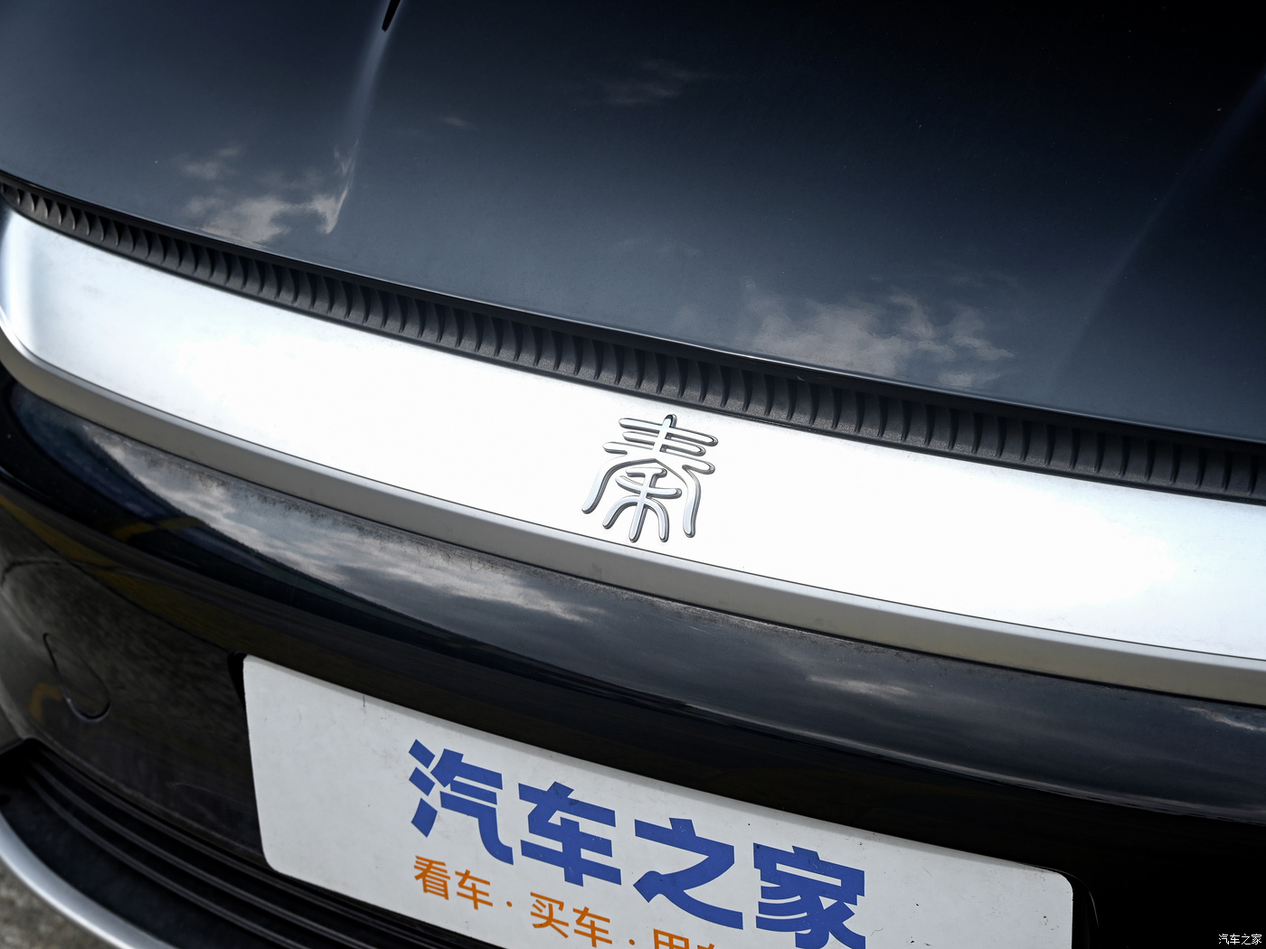BYD Qin: (582, 415, 717, 541)
